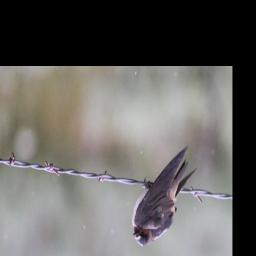Swallow: (131, 145, 198, 248)
